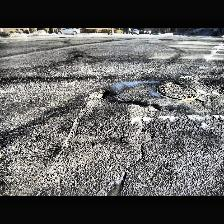pothole: (103, 173, 127, 195), (92, 89, 110, 99)
